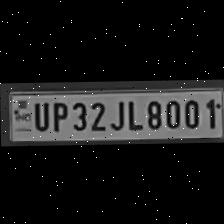0: (180, 94, 200, 127), (162, 95, 180, 127)
1: (202, 96, 220, 128)
2: (86, 96, 106, 130)
3: (66, 97, 86, 130)
8: (141, 96, 163, 129)
J: (106, 96, 124, 130)
L: (123, 96, 141, 129)
P: (48, 98, 68, 130)
U: (29, 98, 48, 130)
